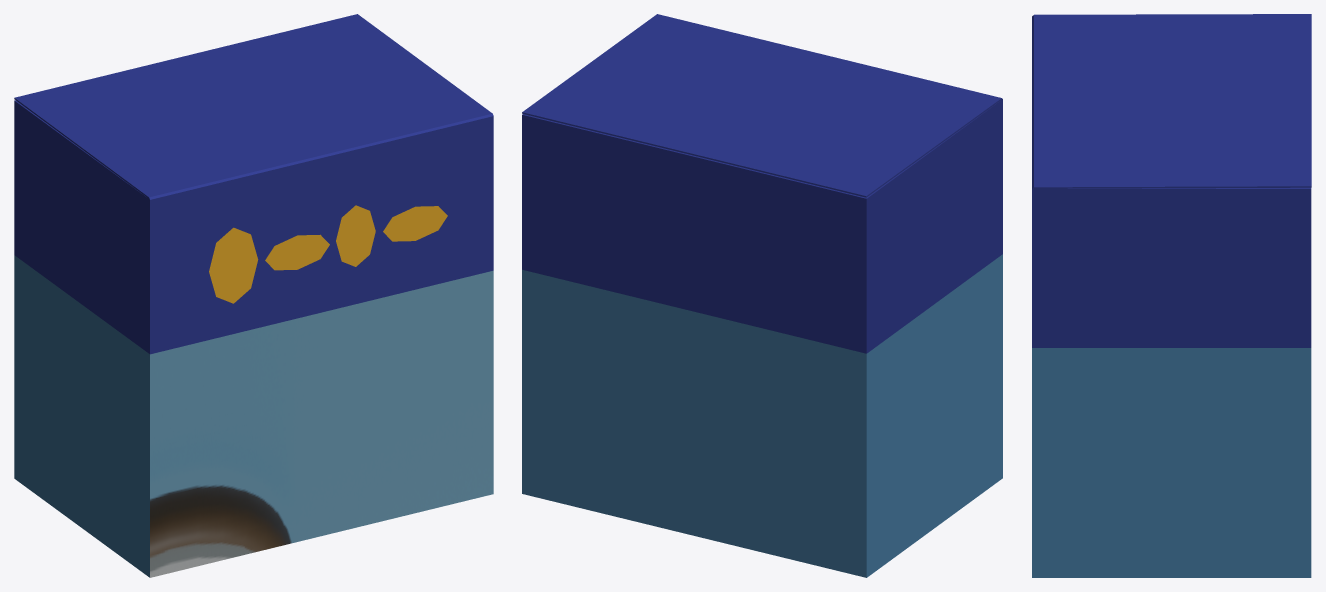
Rendered from Ma_Cookies_1.fbx.
The picture shows the model from 3 angles, left to right: view 1: azimuth 30°, elevation 25°; view 2: azimuth 150°, elevation 25°; view 3: azimuth 270°, elevation 25°; orthographic projection. The views are drawn at different scales.
Visible parts, largest first — view 1: Ma_Cookies_1; view 2: Ma_Cookies_1; view 3: Ma_Cookies_1.
Boxes of the visible parts, <box> form: Ma_Cookies_1: <box>14,14,493,577</box>; Ma_Cookies_1: <box>522,14,1002,577</box>; Ma_Cookies_1: <box>1032,14,1311,577</box>.
Size of the model in its own units: 120 by 82.58 by 127.
